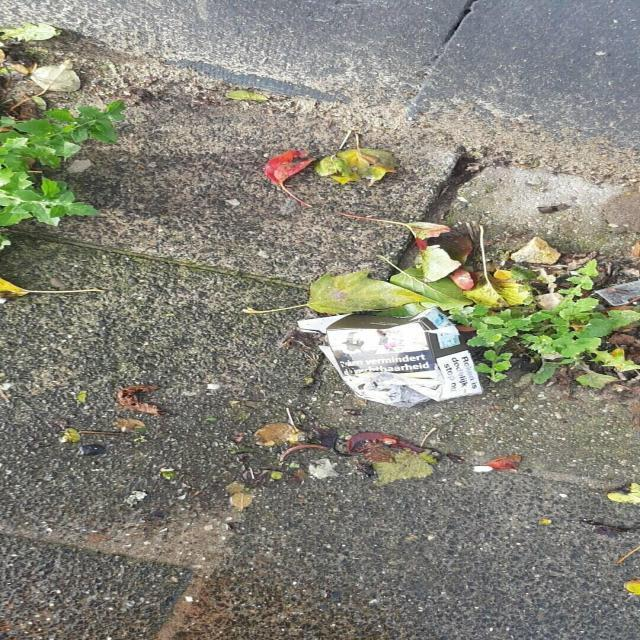Paper: (293, 303, 486, 409)
